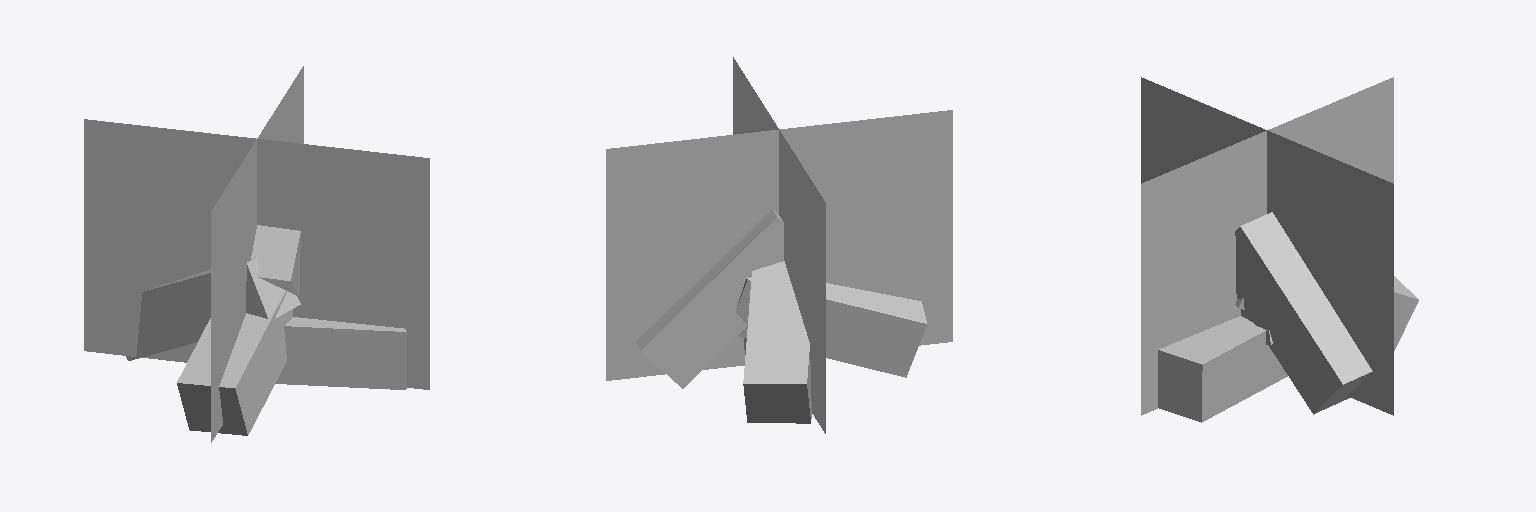
The model's file is campfire_lit.obj.
3 views of the same model, side by side, from view 1: azimuth 30°, elevation 25°; view 2: azimuth 150°, elevation 25°; view 3: azimuth 270°, elevation 25° (orthographic).
Visible parts, largest first — view 1: Cube; view 2: Cube; view 3: Cube.
Part boxes in pixels (left/top/right/bottom): Cube: left=84, top=66, right=429, bottom=442; Cube: left=606, top=57, right=952, bottom=433; Cube: left=1141, top=77, right=1418, bottom=422.
Bounding box in the file's own units: 1.08 × 1.06 × 1.09.